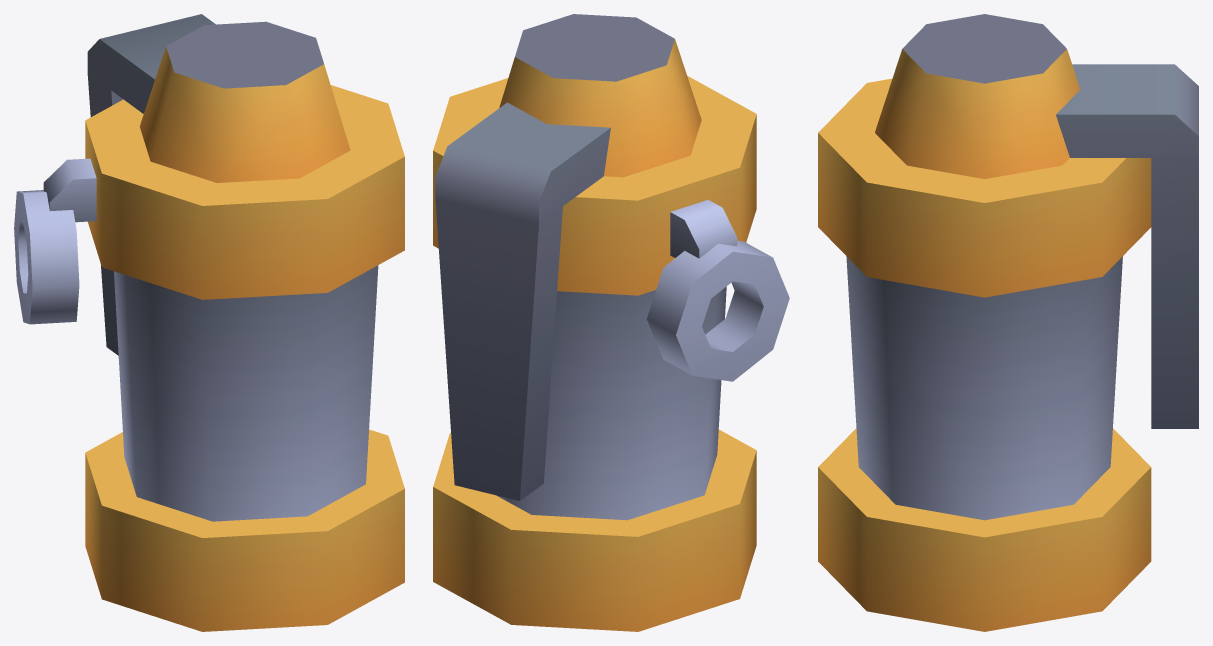
The model's file is grenade.glb.
The picture shows the model from 3 angles, left to right: view 1: azimuth 30°, elevation 25°; view 2: azimuth 150°, elevation 25°; view 3: azimuth 270°, elevation 25°; orthographic projection.
Parts seen in each view (by area): view 1: grenade-a; view 2: grenade-a; view 3: grenade-a.
Boxes of the visible parts, left/top/right/bottom form: grenade-a: left=14, top=14, right=404, bottom=631; grenade-a: left=433, top=14, right=789, bottom=631; grenade-a: left=818, top=14, right=1198, bottom=631.
Bounding box in the file's own units: 0.1689 × 0.2377 × 0.1599.
Materials: 1 (1 with a texture image).
